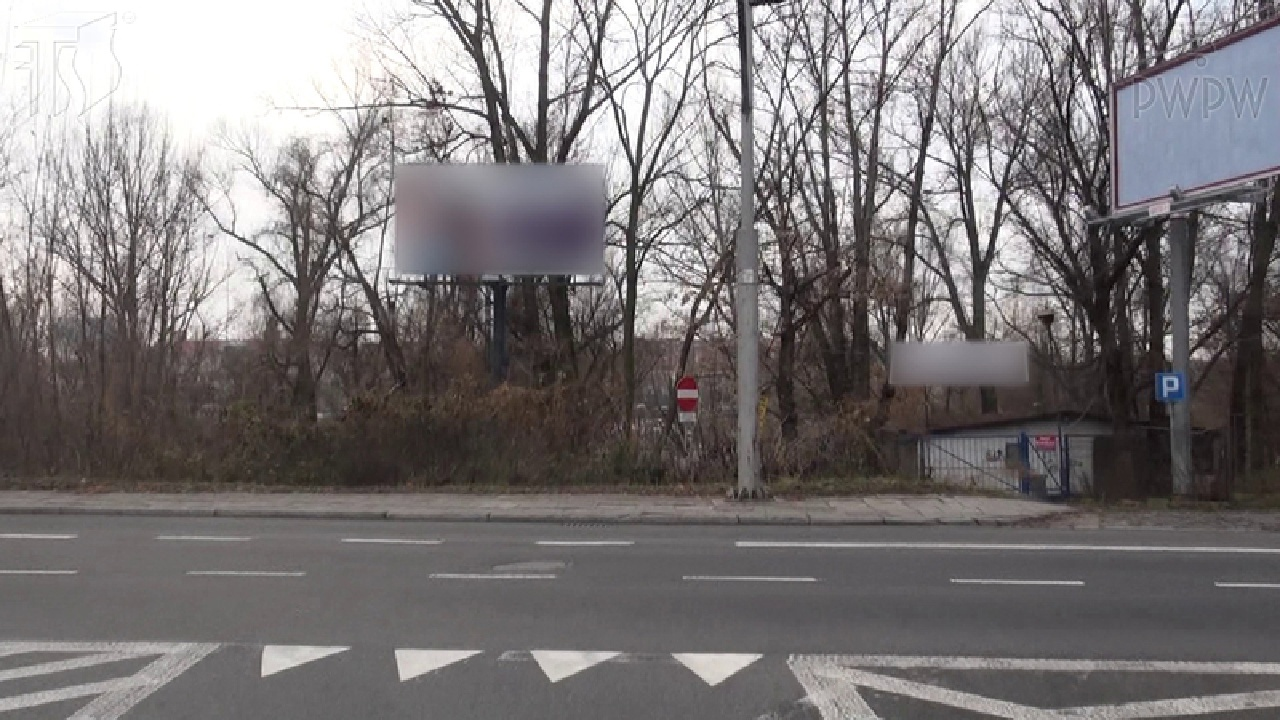B2: (674, 376, 700, 411)
D18: (1155, 373, 1184, 401)
